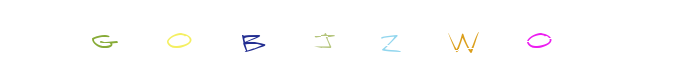B: (230, 0, 310, 80)
G: (63, 0, 143, 80)
J: (294, 0, 374, 80)
O: (211, 0, 291, 80), (498, 0, 578, 80)
W: (424, 0, 504, 80)
Z: (308, 0, 388, 80)
